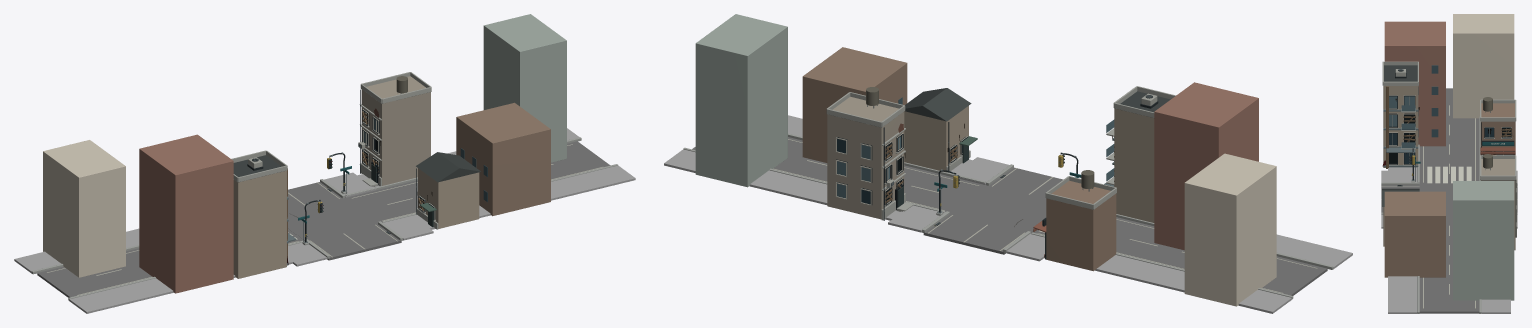
Rendered from city_hd_23.glb.
The picture shows the model from 3 angles, left to right: view 1: azimuth 30°, elevation 25°; view 2: azimuth 150°, elevation 25°; view 3: azimuth 270°, elevation 25°; orthographic projection. The views are drawn at different scales.
Parts seen in each view (by area): view 1: CITY_realwall_9a7567, CITY_PBR_asphalt, CITY_realwall_d0c8b8, CITY_realwall_a3aea6, CITY_realwall_927d6c, CITY_realwall_a99d8c, CITY_PBR_pavement, CITY_realwall_a49c8e, CITY_trim, CITY_roof, CITY_curb, CITY_recess (+2 smaller); view 2: CITY_realwall_a3aea6, CITY_PBR_asphalt, CITY_realwall_d0c8b8, CITY_realwall_927d6c, CITY_realwall_9a7567, CITY_PBR_pavement, CITY_realwall_a99d8c, CITY_realwall_a49c8e, CITY_trim, CITY_roof, CITY_curb, CITY_frame (+5 smaller); view 3: CITY_realwall_a3aea6, CITY_realwall_927d6c, CITY_realwall_d0c8b8, CITY_PBR_asphalt, CITY_realwall_9a7567, CITY_PBR_pavement, CITY_trim, CITY_realwall_a99d8c, CITY_roof, CITY_realwall_a49c8e, CITY_glass, CITY_zebra_paint (+13 smaller).
Boxes of the visible parts, <box> form: CITY_realwall_9a7567: <box>139,134,233,293</box>; CITY_PBR_asphalt: <box>37,141,610,297</box>; CITY_realwall_d0c8b8: <box>43,140,125,277</box>; CITY_realwall_a3aea6: <box>483,14,566,162</box>; CITY_realwall_927d6c: <box>456,102,550,216</box>; CITY_realwall_a99d8c: <box>233,168,479,278</box>; CITY_PBR_pavement: <box>14,128,635,313</box>; CITY_realwall_a49c8e: <box>361,76,430,185</box>; CITY_trim: <box>231,72,438,229</box>; CITY_roof: <box>233,152,480,182</box>; CITY_curb: <box>31,137,618,300</box>; CITY_recess: <box>362,109,435,219</box>; CITY_realwall_a3aea6: <box>695,14,787,187</box>; CITY_PBR_asphalt: <box>692,137,1327,295</box>; CITY_realwall_d0c8b8: <box>1184,153,1276,306</box>; CITY_realwall_927d6c: <box>802,47,1116,271</box>; CITY_realwall_9a7567: <box>1154,82,1258,250</box>; CITY_PBR_pavement: <box>664,115,1352,313</box>; CITY_realwall_a99d8c: <box>904,106,1154,222</box>; CITY_realwall_a49c8e: <box>827,96,904,219</box>; CITY_trim: <box>826,86,1175,220</box>; CITY_roof: <box>881,88,1170,209</box>; CITY_curb: <box>683,133,1333,299</box>; CITY_frame: <box>835,133,967,205</box>; CITY_realwall_a3aea6: <box>1453,181,1514,300</box>; CITY_realwall_927d6c: <box>1384,103,1515,277</box>; CITY_realwall_d0c8b8: <box>1453,14,1514,118</box>; CITY_PBR_asphalt: <box>1381,88,1517,313</box>; CITY_realwall_9a7567: <box>1384,21,1445,146</box>; CITY_PBR_pavement: <box>1381,167,1517,313</box>; CITY_trim: <box>1382,61,1516,179</box>; CITY_realwall_a99d8c: <box>1383,86,1418,246</box>; CITY_roof: <box>1382,65,1515,206</box>; CITY_realwall_a49c8e: <box>1480,159,1515,250</box>; CITY_glass: <box>1389,96,1415,148</box>; CITY_zebra_paint: <box>1427,166,1471,183</box>.
Size of the model in its own units: 63 by 13.26 by 16.
